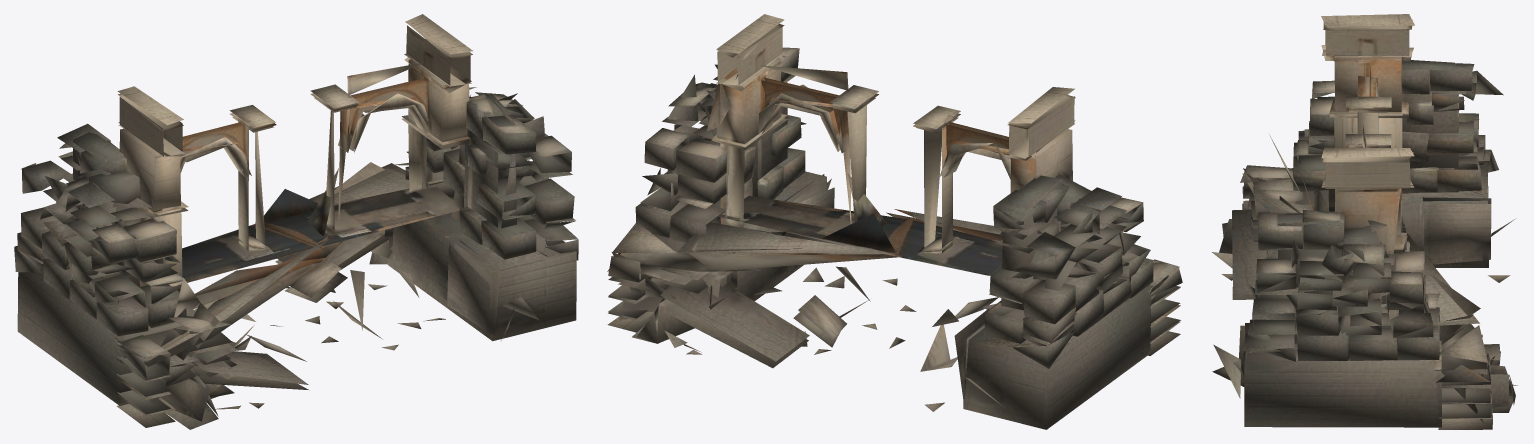
The model's file is causeway-broken.lod1.glb.
The picture shows the model from 3 angles, left to right: view 1: azimuth 30°, elevation 25°; view 2: azimuth 150°, elevation 25°; view 3: azimuth 270°, elevation 25°; orthographic projection. The views are drawn at different scales.
Parts seen in each view (by area): view 1: causeway-broken_lod1; view 2: causeway-broken_lod1; view 3: causeway-broken_lod1.
Boxes of the visible parts, x1,y1,x2,y2 form: causeway-broken_lod1: (14, 14, 578, 429); causeway-broken_lod1: (607, 14, 1182, 429); causeway-broken_lod1: (1212, 14, 1517, 429).
Bounding box in the file's own units: 8.09 × 4.93 × 5.22.
1 material, 1 textured.
